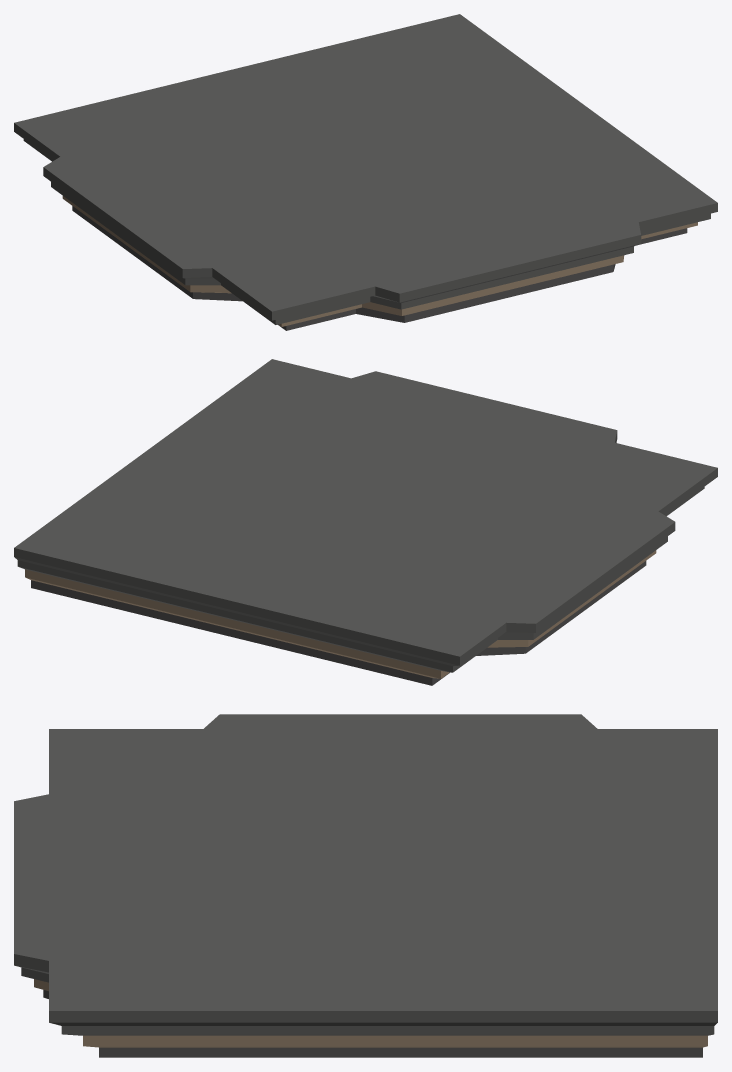
File: SM_Bld_Apartment_Roof_Corner_01.fbx
The picture shows the model from 3 angles, top to bottom: view 1: azimuth 30°, elevation 25°; view 2: azimuth 150°, elevation 25°; view 3: azimuth 270°, elevation 25°; orthographic projection. The views are drawn at different scales.
Visible parts, largest first — view 1: SM_Bld_Apartment_Roof_Corner_01; view 2: SM_Bld_Apartment_Roof_Corner_01; view 3: SM_Bld_Apartment_Roof_Corner_01.
Part boxes in pixels (bbox=[...]): SM_Bld_Apartment_Roof_Corner_01: bbox=[14, 14, 717, 330]; SM_Bld_Apartment_Roof_Corner_01: bbox=[14, 359, 717, 685]; SM_Bld_Apartment_Roof_Corner_01: bbox=[14, 714, 717, 1057].
Size of the model in its own units: 590 by 49.99 by 592.
